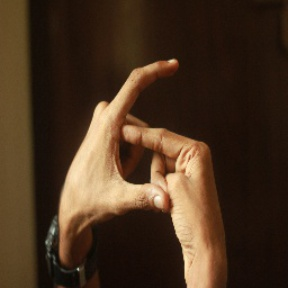E: (107, 50, 193, 217)
